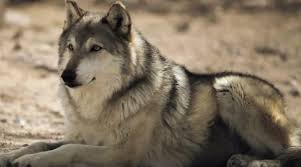wolf: (22, 2, 283, 167)
